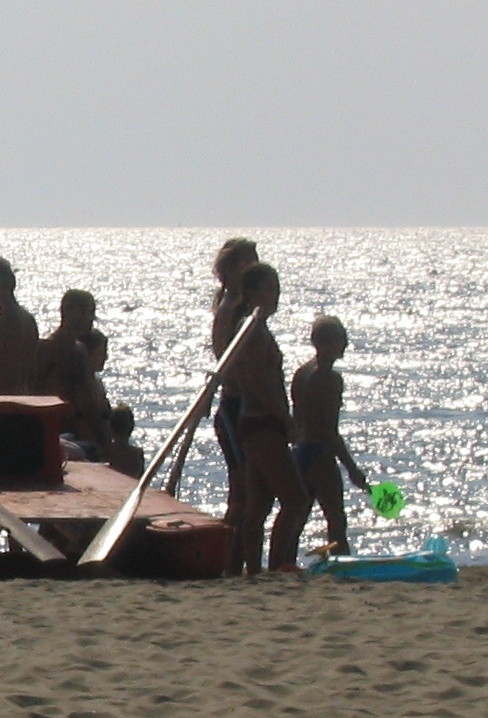person: (219, 259, 301, 587)
